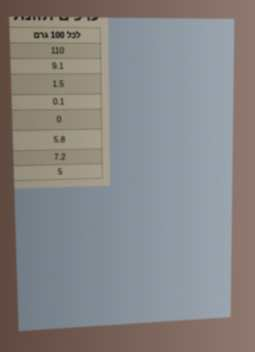carbs: (52, 96, 66, 107)
energy: (50, 45, 65, 56)
fat: (51, 60, 65, 72)
protein: (53, 151, 67, 163)
